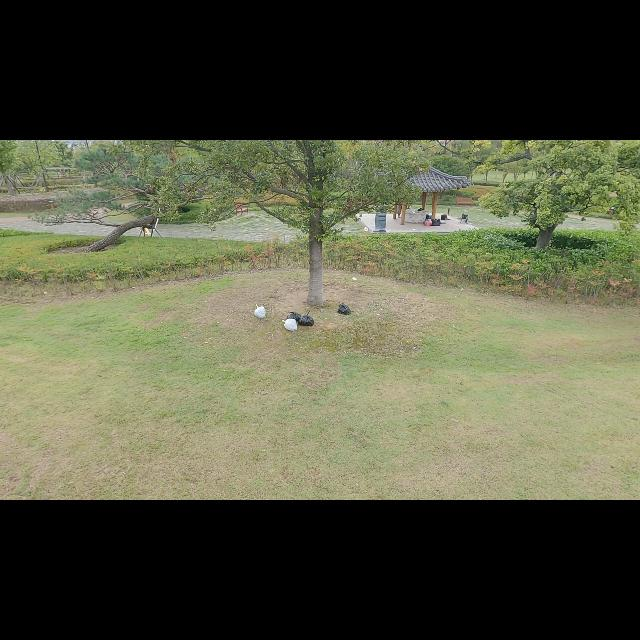trash: (334, 300, 354, 318), (298, 308, 316, 326), (279, 318, 299, 332), (254, 302, 266, 320), (286, 310, 302, 322)
